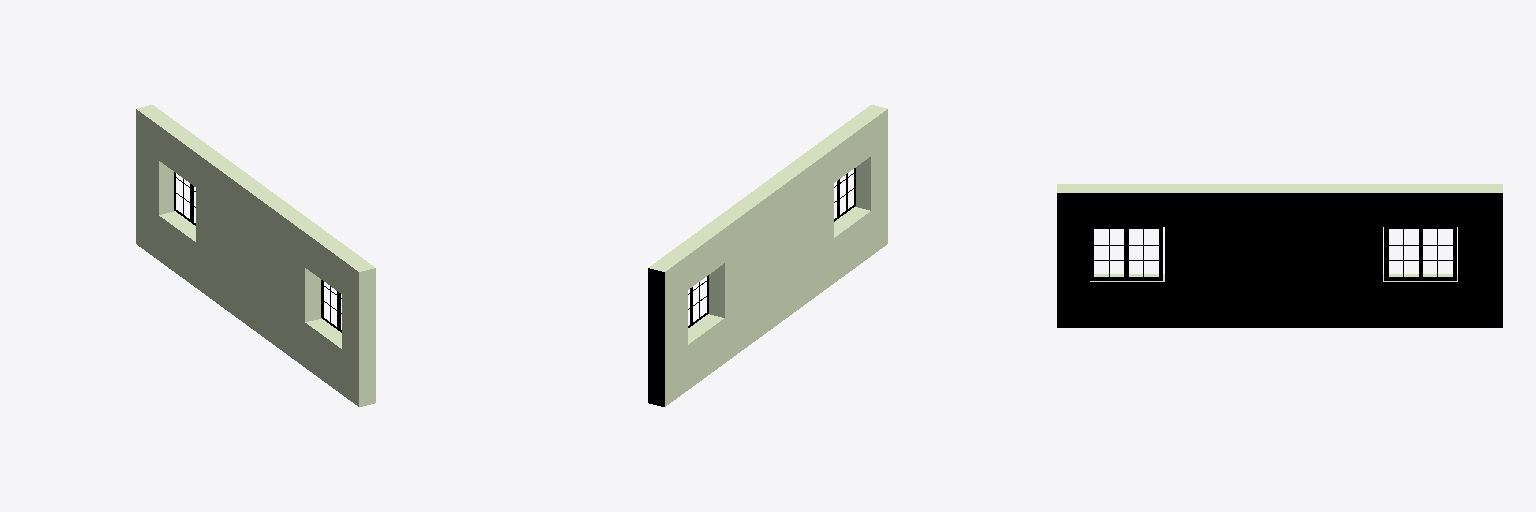
3 views of the same model, side by side, from view 1: azimuth 30°, elevation 25°; view 2: azimuth 150°, elevation 25°; view 3: azimuth 270°, elevation 25° (orthographic).
Parts seen in each view (by area): view 1: refri_edit20:Box007 group6; view 2: refri_edit20:Box007 group6; view 3: refri_edit20:Box007 group6.
Part boxes in pixels (left/top/right/bottom): refri_edit20:Box007 group6: left=136, top=105, right=375, bottom=406; refri_edit20:Box007 group6: left=648, top=105, right=887, bottom=406; refri_edit20:Box007 group6: left=1057, top=184, right=1502, bottom=327.
Size of the model in its own units: 0.8689 by 6.64 by 19.87.
4 materials, 1 textured.